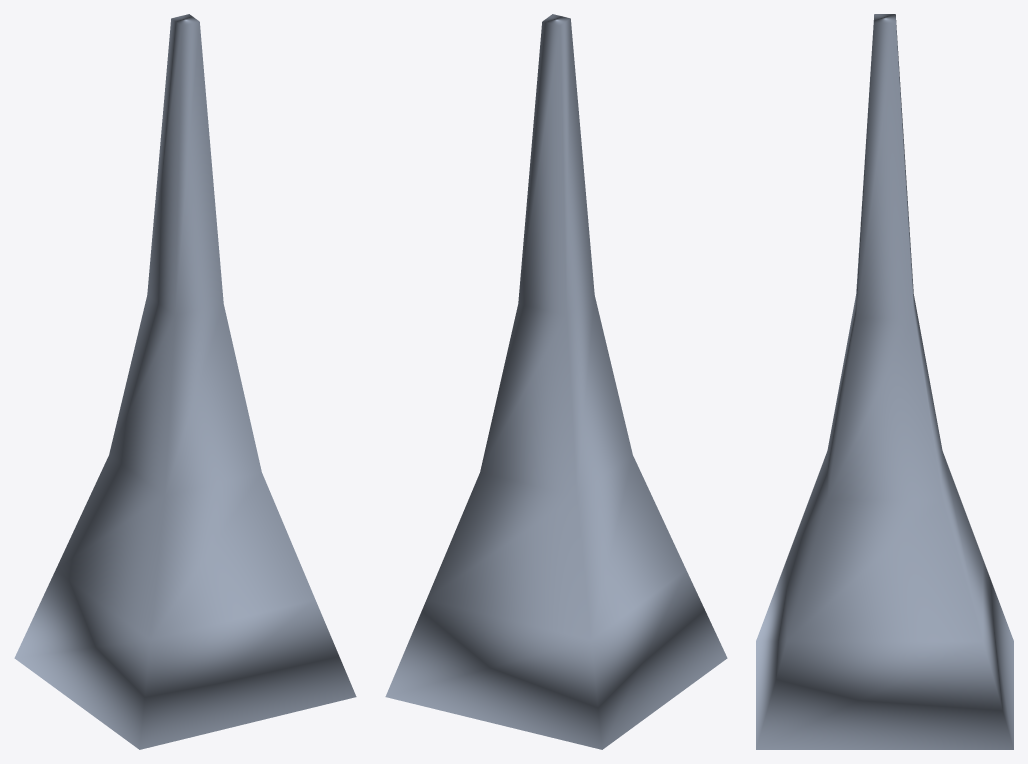
Rendered from S_Stalagmite_01.fbx.
The picture shows the model from 3 angles, left to right: view 1: azimuth 30°, elevation 25°; view 2: azimuth 150°, elevation 25°; view 3: azimuth 270°, elevation 25°; orthographic projection. The views are drawn at different scales.
Parts seen in each view (by area): view 1: S_Stalagmite_01; view 2: S_Stalagmite_01; view 3: S_Stalagmite_01.
Boxes of the visible parts, left/top/right/bottom form: S_Stalagmite_01: left=14, top=14, right=356, bottom=749; S_Stalagmite_01: left=385, top=14, right=727, bottom=749; S_Stalagmite_01: left=756, top=14, right=1013, bottom=749.
Size of the model in its own units: 24.24 by 70.19 by 24.24.
